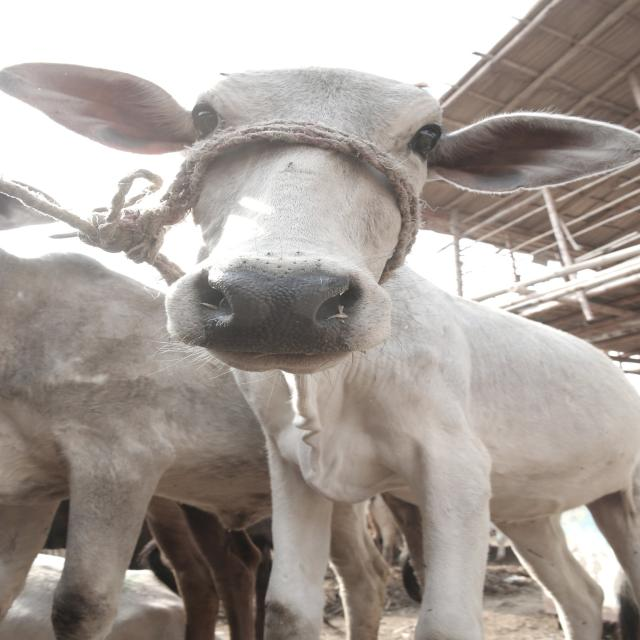muzzles: (180, 258, 364, 358)
